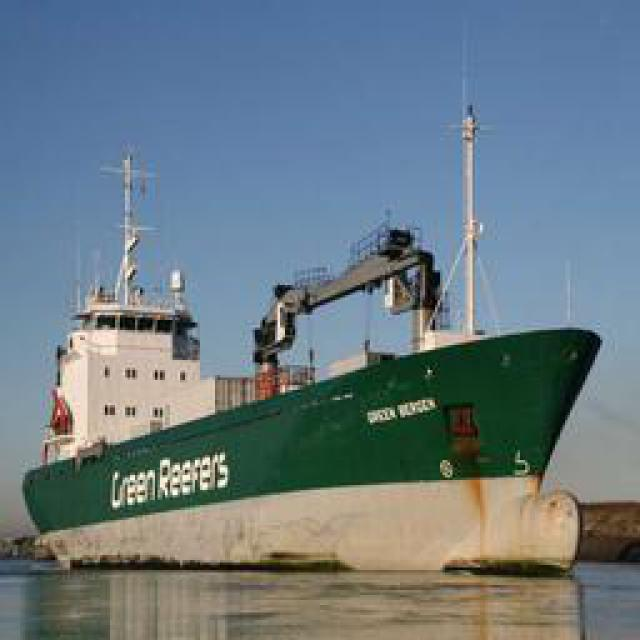Ship: (22, 125, 610, 565)
